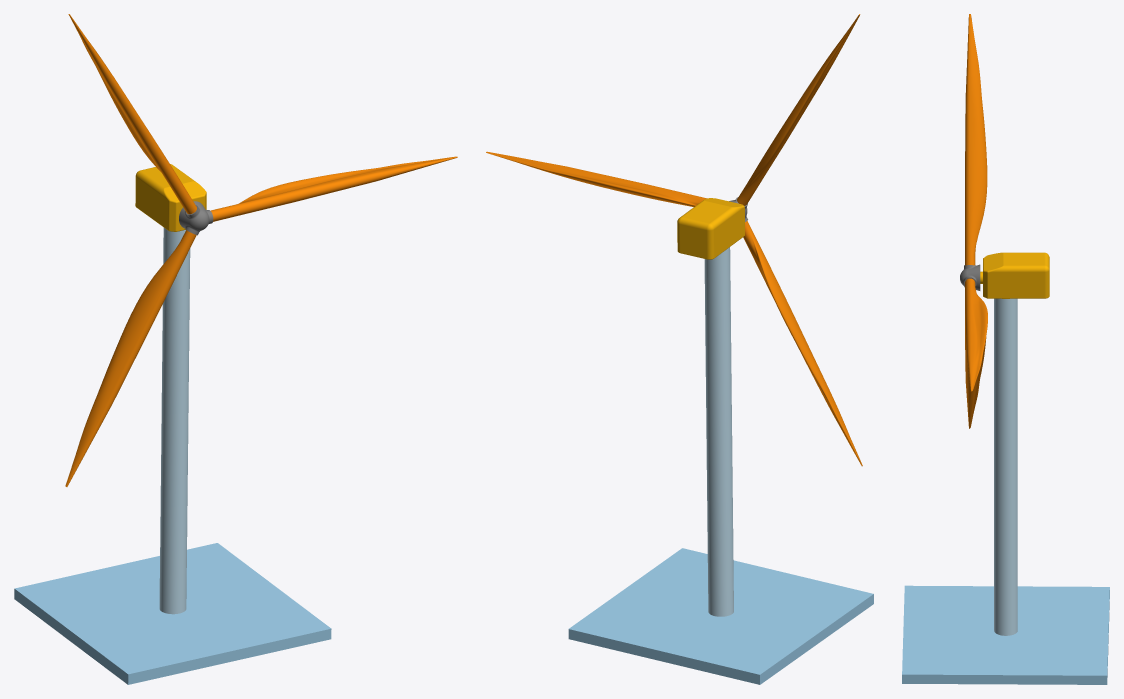
Rendered from wind_turbine.dae.
3 renders of one model, left to right at view 1: azimuth 30°, elevation 25°; view 2: azimuth 150°, elevation 25°; view 3: azimuth 270°, elevation 25°, orthographic. The views are drawn at different scales.
Parts seen in each view (by area): view 1: Part 7, tower, Blade, Blade_3, Blade_2, Nacelle, Hub; view 2: Part 7, tower, Nacelle, Blade, Blade_3, Blade_2; view 3: Part 7, tower, Blade_2, Nacelle, Blade_3, Blade, Hub.
Part boxes in pixels (x1=…): Part 7: x1=14, y1=543, x2=331, y2=684; tower: x1=159, y1=227, x2=190, y2=614; Blade: x1=65, y1=230, x2=196, y2=486; Blade_3: x1=210, y1=156, x2=457, y2=221; Blade_2: x1=68, y1=14, x2=196, y2=214; Nacelle: x1=135, y1=164, x2=206, y2=231; Hub: x1=179, y1=201, x2=213, y2=235; Part 7: x1=568, y1=548, x2=873, y2=684; tower: x1=704, y1=247, x2=733, y2=616; Nacelle: x1=677, y1=198, x2=744, y2=259; Blade: x1=743, y1=221, x2=862, y2=466; Blade_3: x1=486, y1=151, x2=707, y2=206; Blade_2: x1=737, y1=14, x2=860, y2=205; Part 7: x1=902, y1=585, x2=1109, y2=684; tower: x1=994, y1=298, x2=1017, y2=635; Blade_2: x1=965, y1=14, x2=987, y2=265; Nacelle: x1=980, y1=252, x2=1049, y2=298; Blade_3: x1=965, y1=278, x2=987, y2=391; Blade: x1=965, y1=293, x2=986, y2=428; Hub: x1=960, y1=264, x2=980, y2=290.
Bounding box in the file's own units: 77.81 × 40.51 × 123.
